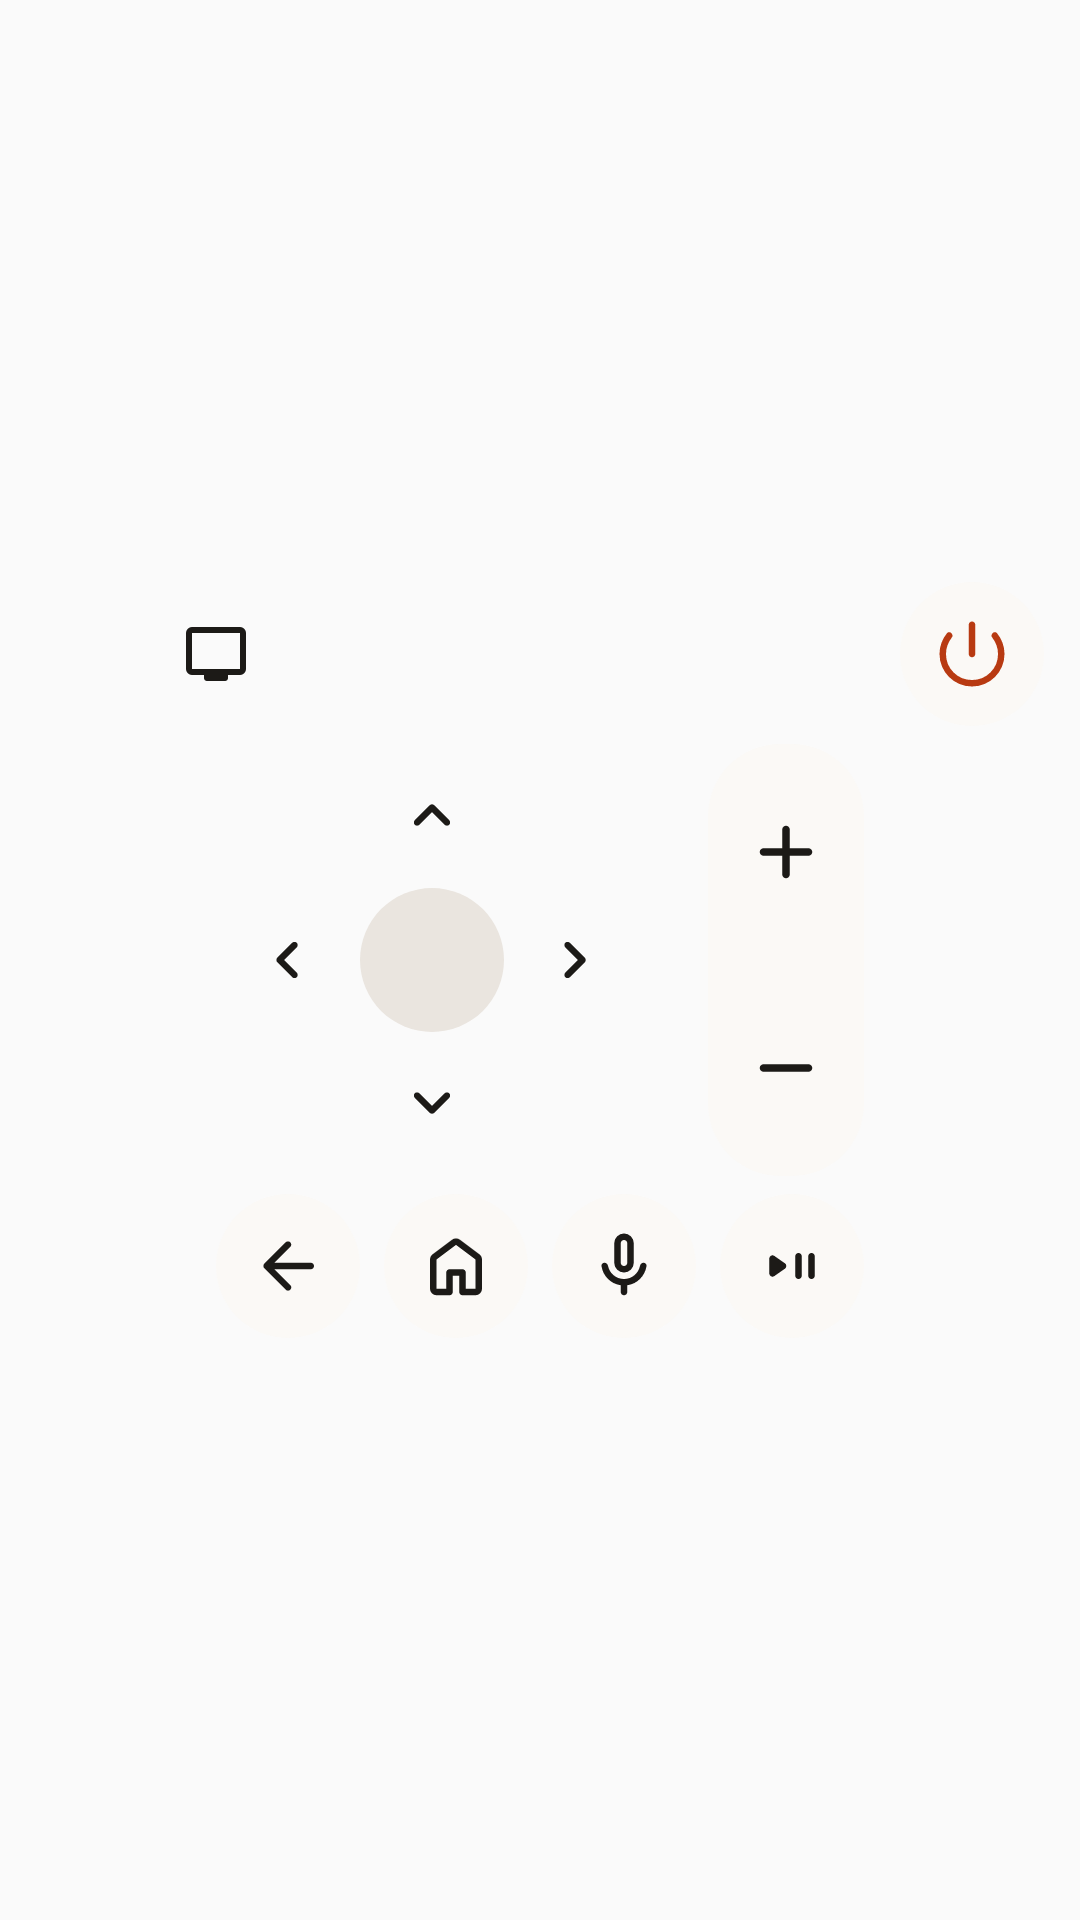

Icons on this 1080×1920 Android screen, each with its box as (x1, y1, x2, y2):
sym add: (759, 825, 813, 879)
sym arrow back: (263, 1241, 314, 1291)
sym home: (430, 1238, 482, 1296)
sym keyboard arrow down: (414, 1092, 450, 1114)
sym keyboard arrow left: (276, 942, 298, 978)
sym keyboard arrow right: (564, 942, 586, 978)
sym keyboard arrow up: (414, 804, 450, 826)
sym mic: (601, 1233, 647, 1296)
sym play pause: (769, 1253, 815, 1279)
sym power settings: (939, 621, 1005, 687)
sym tv: (186, 627, 246, 681)
